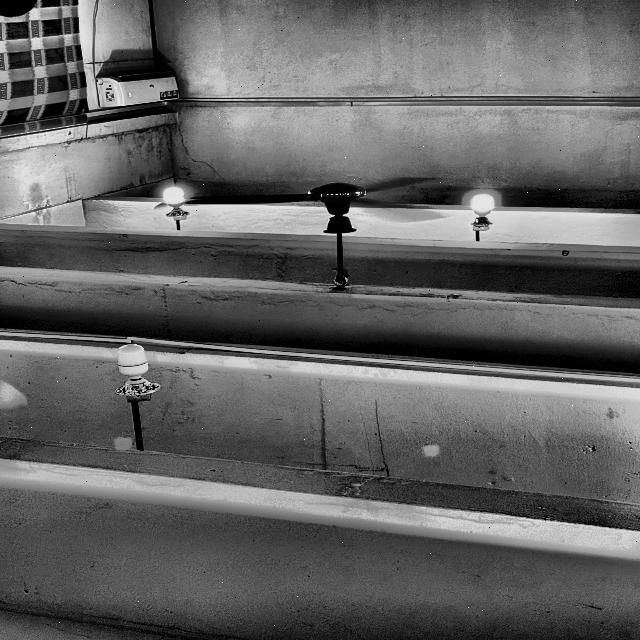fan: (60, 91, 580, 310)
